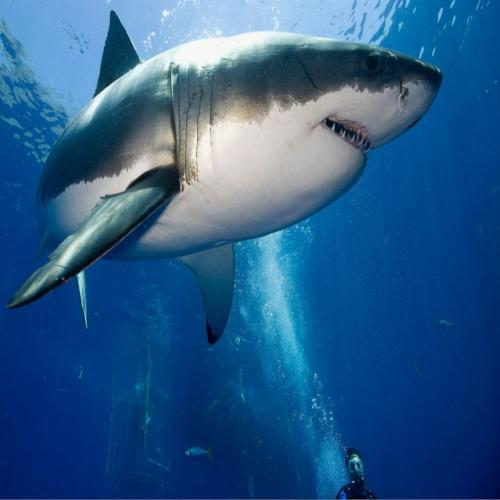shark-endangered: (33, 27, 443, 273)
